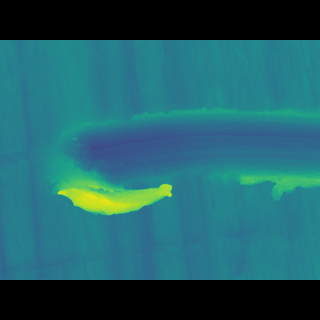Loch: (42, 118, 320, 203)
